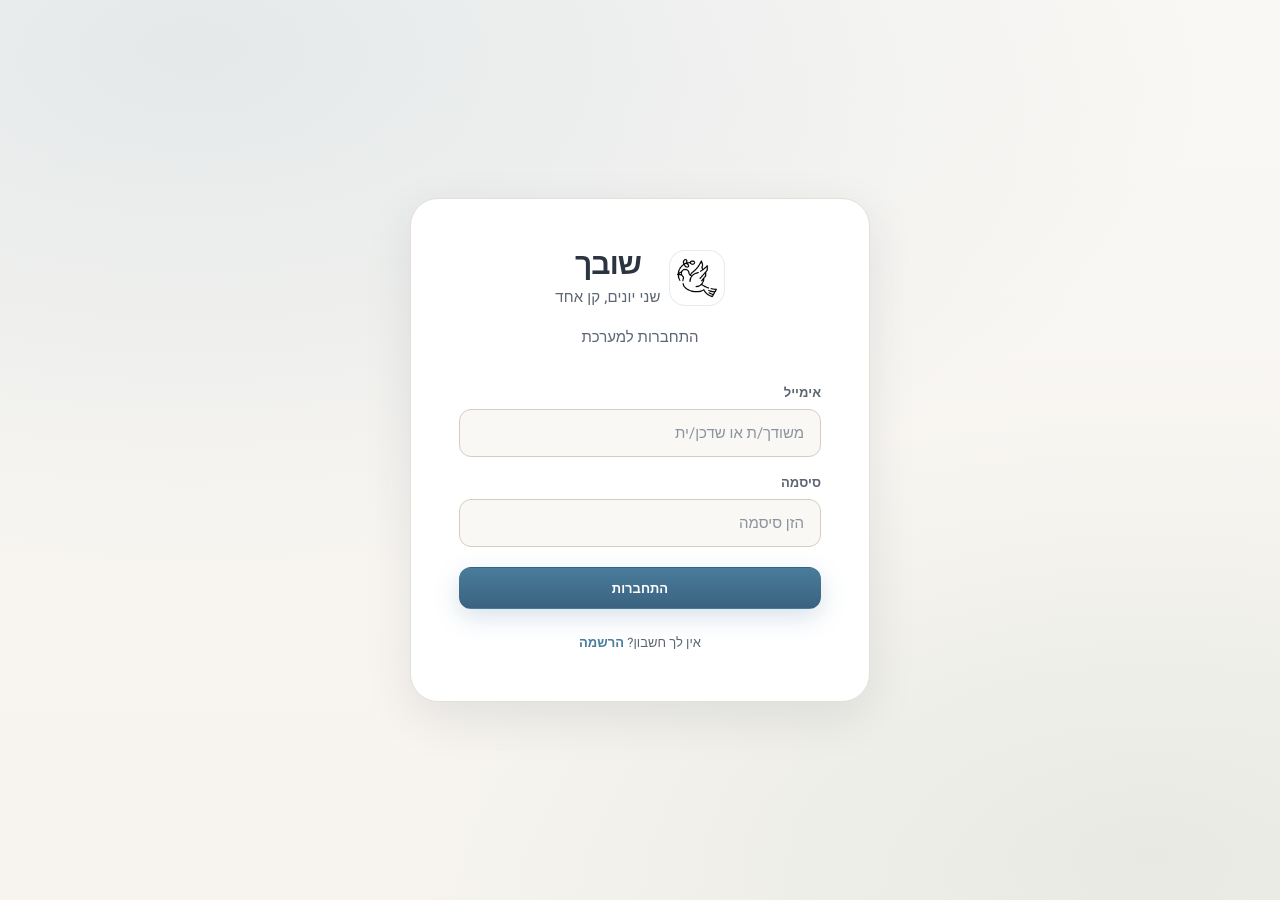
it: renders app shell with browse profiles after login
Type "Person" into the field labelled "אימייל" at [640, 433], box [459,409,821,457]
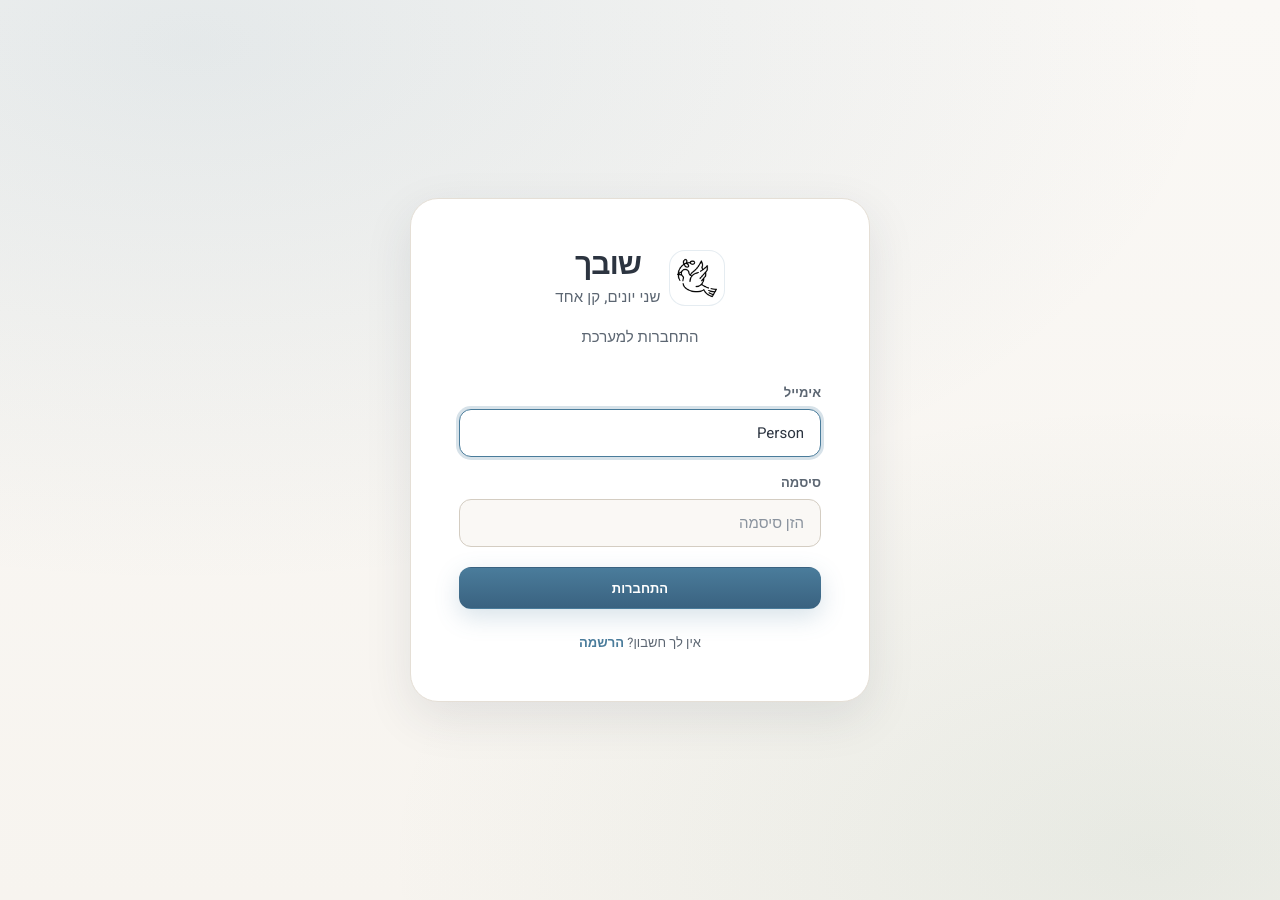
Type "Person" into the password field labelled "סיסמה" at [640, 523], box [459,499,821,547]
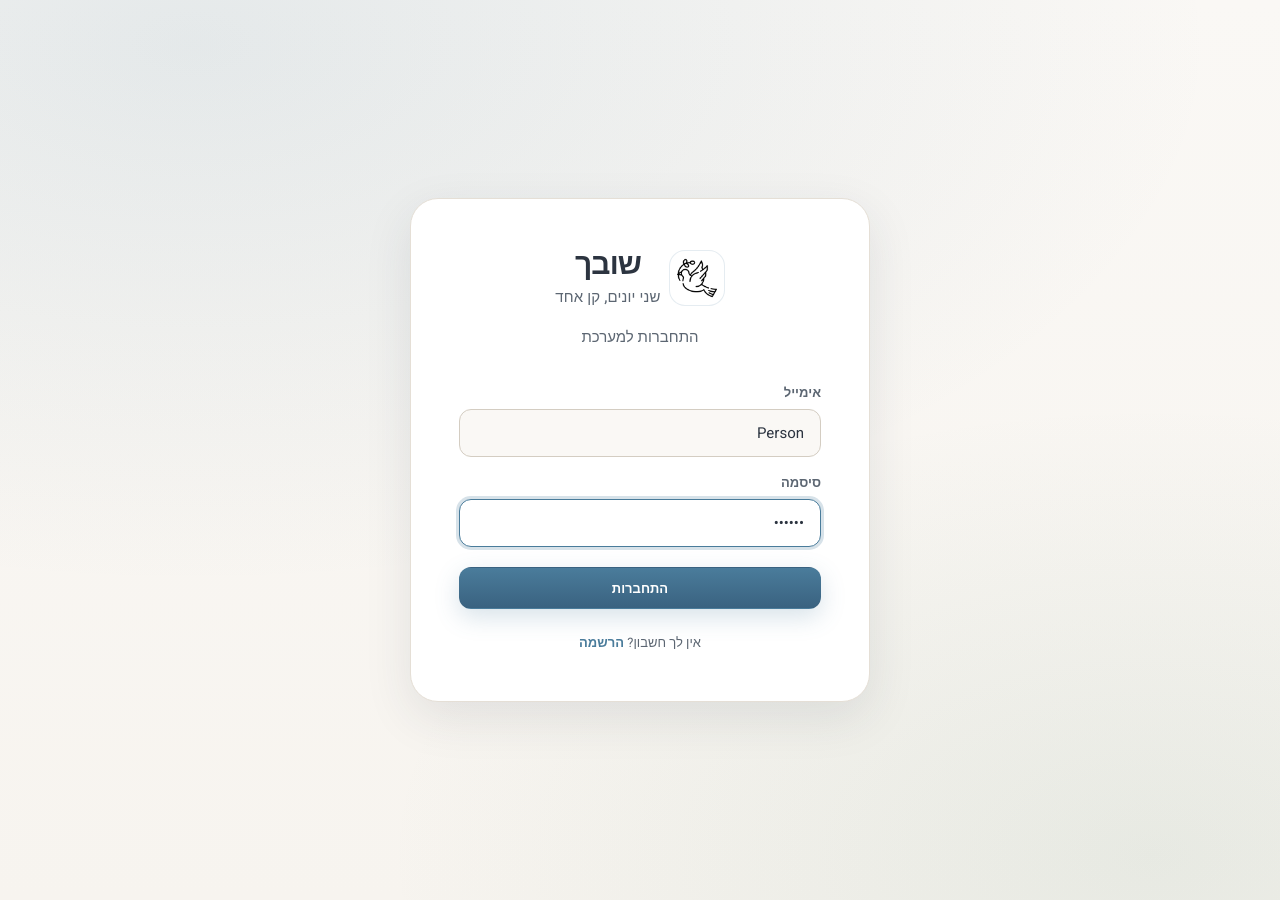
Click the button "התחברות" at [640, 588], box [459,567,821,609]
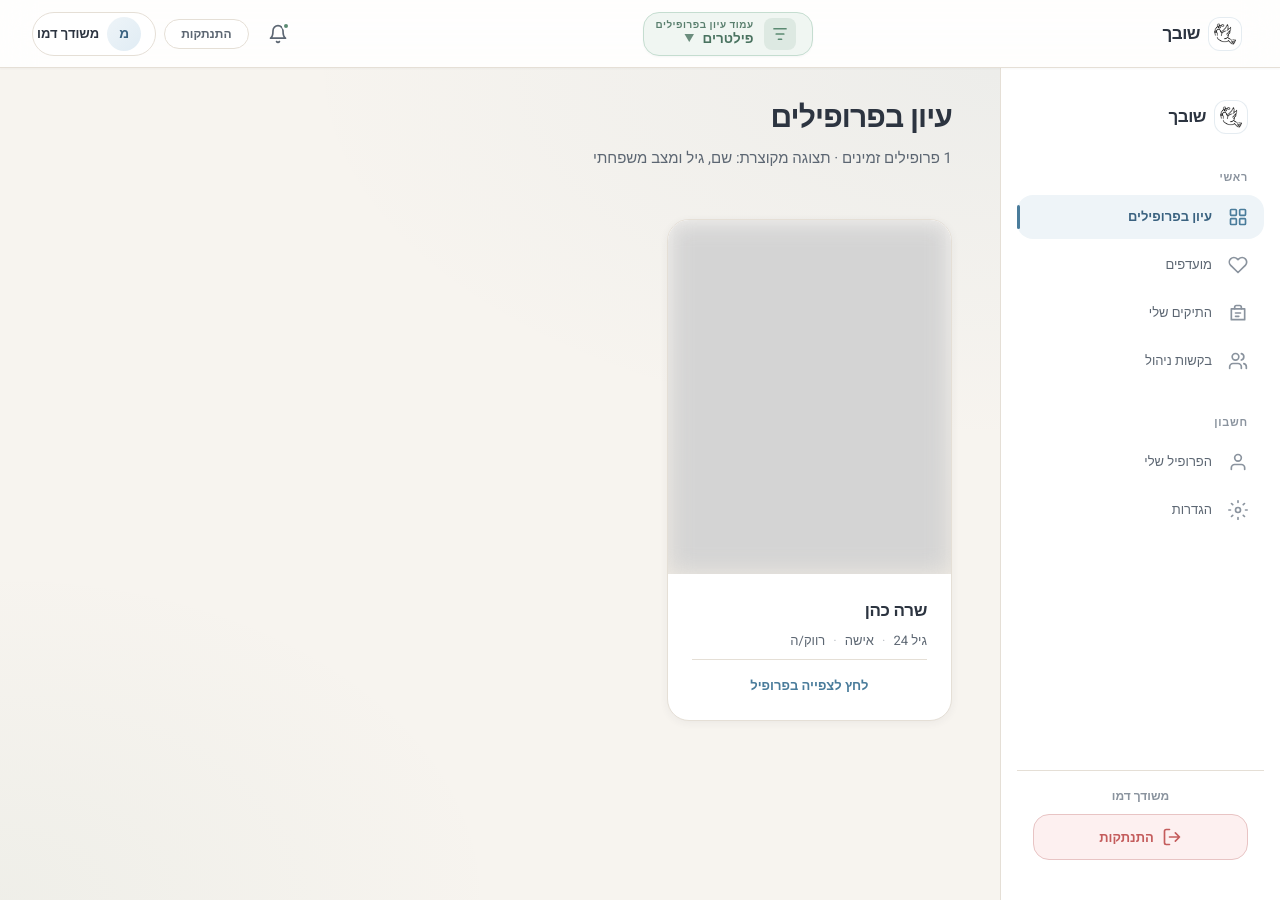
Expected: the heading "עיון בפרופילים" is shown, [770,96,952,140]
